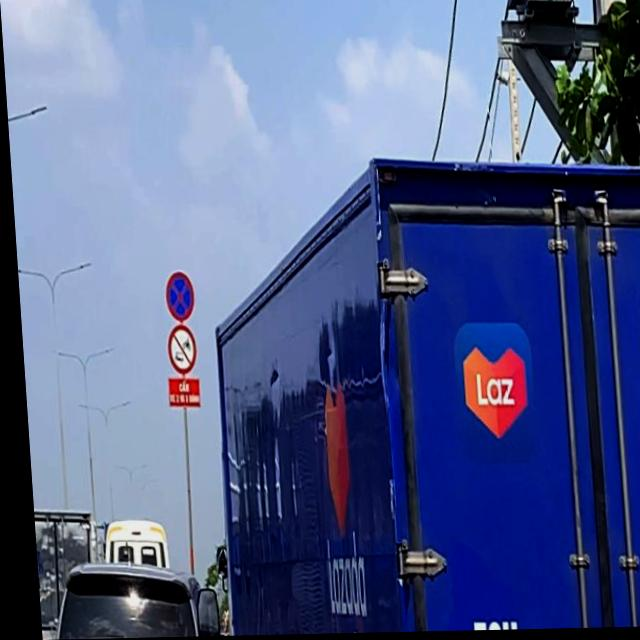Cam dung xe va do xe: (159, 267, 192, 326)
